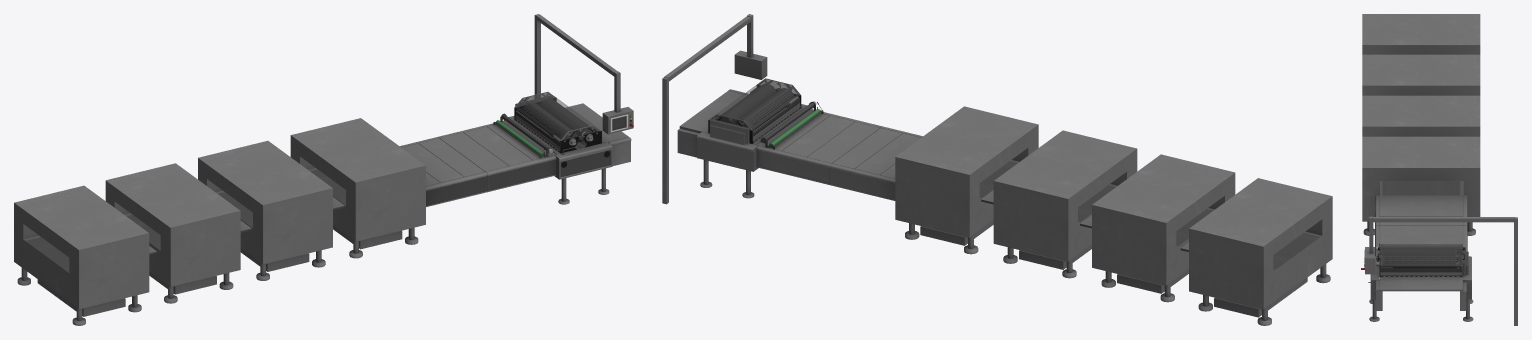
Rendered from laminadora.fbx.
3 renders of one model, left to right at view 1: azimuth 30°, elevation 25°; view 2: azimuth 150°, elevation 25°; view 3: azimuth 270°, elevation 25°, orthographic. The views are drawn at different scales.
Parts seen in each view (by area): view 1: polySurface690, polySurface601, polySurface670, polySurface680, polySurface41 (×2), polySurface623, polySurface597, polySurface596, polySurface646, polySurface622, polySurface595, polySurface599 (+12 smaller); view 2: polySurface690, polySurface670, polySurface601, polySurface680, polySurface41 (×2), polySurface608, polySurface597, polySurface596, polySurface651, polySurface605, polySurface595, polySurface599 (+13 smaller); view 3: polySurface601, polySurface670, polySurface680, polySurface690, polySurface43 (×2), polySurface649, polySurface41 (×2), polySurface590, polySurface598, polySurface599, polySurface597, polySurface596 (+16 smaller).
Part boxes in pixels (x1=…): polySurface690: x1=14, y1=185, x2=149, y2=309; polySurface601: x1=290, y1=118, x2=425, y2=241; polySurface670: x1=198, y1=140, x2=332, y2=264; polySurface680: x1=105, y1=163, x2=240, y2=286; polySurface41 (×2): x1=523, y1=92, x2=592, y2=131; polySurface623: x1=487, y1=159, x2=556, y2=191; polySurface597: x1=440, y1=132, x2=508, y2=171; polySurface596: x1=463, y1=127, x2=532, y2=165; polySurface646: x1=554, y1=148, x2=612, y2=179; polySurface622: x1=426, y1=176, x2=487, y2=206; polySurface595: x1=419, y1=138, x2=484, y2=176; polySurface599: x1=402, y1=143, x2=463, y2=182; polySurface690: x1=1189, y1=178, x2=1332, y2=309; polySurface670: x1=993, y1=130, x2=1137, y2=261; polySurface601: x1=895, y1=106, x2=1038, y2=237; polySurface680: x1=1092, y1=154, x2=1235, y2=285; polySurface41 (×2): x1=717, y1=78, x2=791, y2=120; polySurface608: x1=756, y1=150, x2=829, y2=184; polySurface597: x1=807, y1=122, x2=879, y2=163; polySurface596: x1=782, y1=115, x2=854, y2=157; polySurface651: x1=697, y1=138, x2=758, y2=171; polySurface605: x1=829, y1=168, x2=895, y2=200; polySurface595: x1=832, y1=128, x2=902, y2=168; polySurface599: x1=855, y1=133, x2=920, y2=174; polySurface601: x1=1362, y1=136, x2=1480, y2=221; polySurface670: x1=1362, y1=95, x2=1480, y2=136; polySurface680: x1=1362, y1=54, x2=1480, y2=95; polySurface690: x1=1362, y1=14, x2=1480, y2=54; polySurface43 (×2): x1=1380, y1=244, x2=1462, y2=266; polySurface649: x1=1379, y1=279, x2=1462, y2=291; polySurface41 (×2): x1=1380, y1=244, x2=1462, y2=255; polySurface590: x1=1382, y1=256, x2=1455, y2=268; polySurface598: x1=1379, y1=195, x2=1462, y2=205; polySurface599: x1=1379, y1=206, x2=1462, y2=216; polySurface597: x1=1379, y1=226, x2=1462, y2=236; polySurface596: x1=1379, y1=236, x2=1462, y2=246.
Bounding box in the file's own units: 227 × 45.86 × 60.59.
